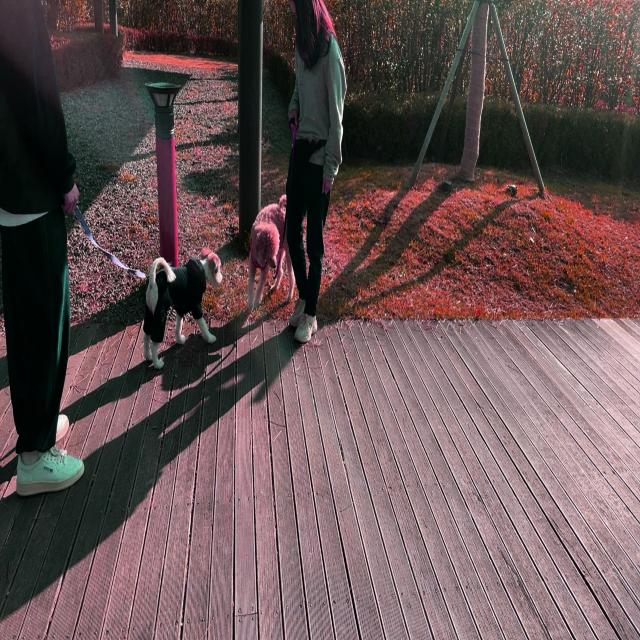Leashed_Dog: (27, 128, 225, 372), (246, 100, 316, 317)
